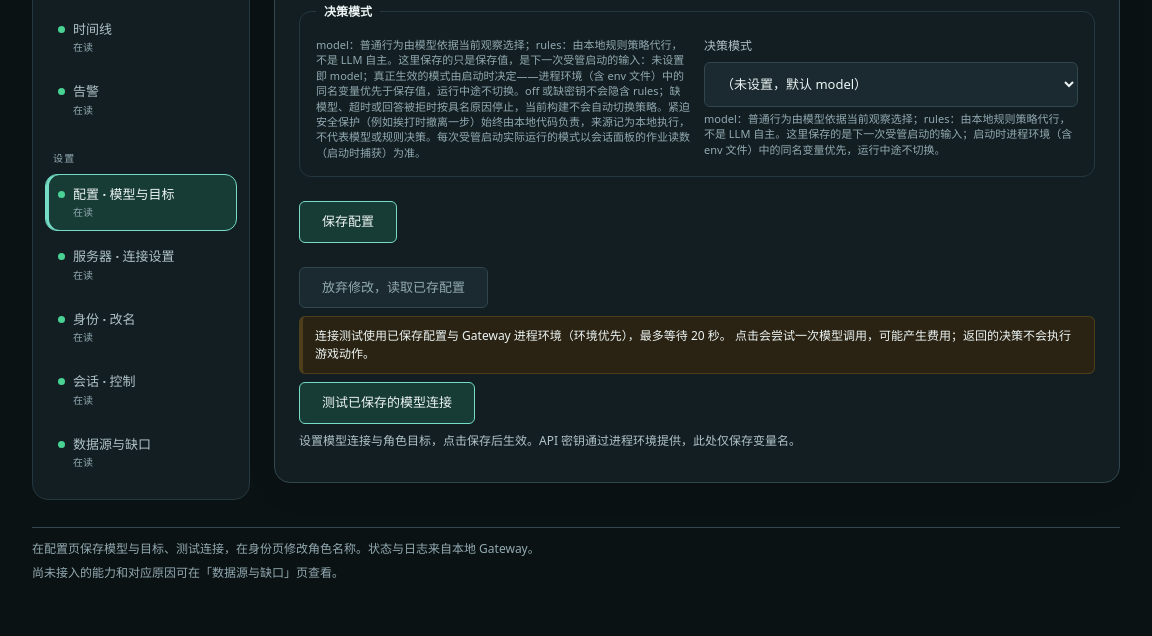
Scenario: 模型连接测试 › 不会把模拟数据报成真实连接成功
(page scrolled)
What coordinates should you click on to do the following:
click the button with test id "model-test-submit"
I would click on:
 (387, 403)
Its box is x1=299 y1=382 x2=475 y2=424.
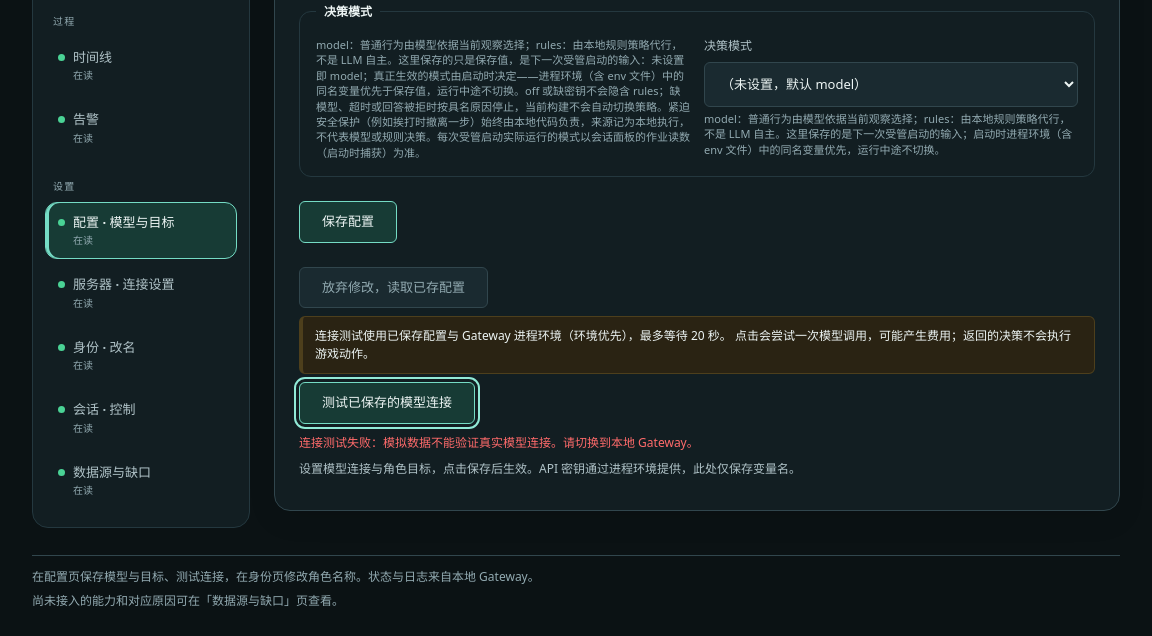
Now the message with test id "model-test-result" shows "模拟数据不能验证真实模型连接", box x1=299 y1=434 x2=699 y2=451
